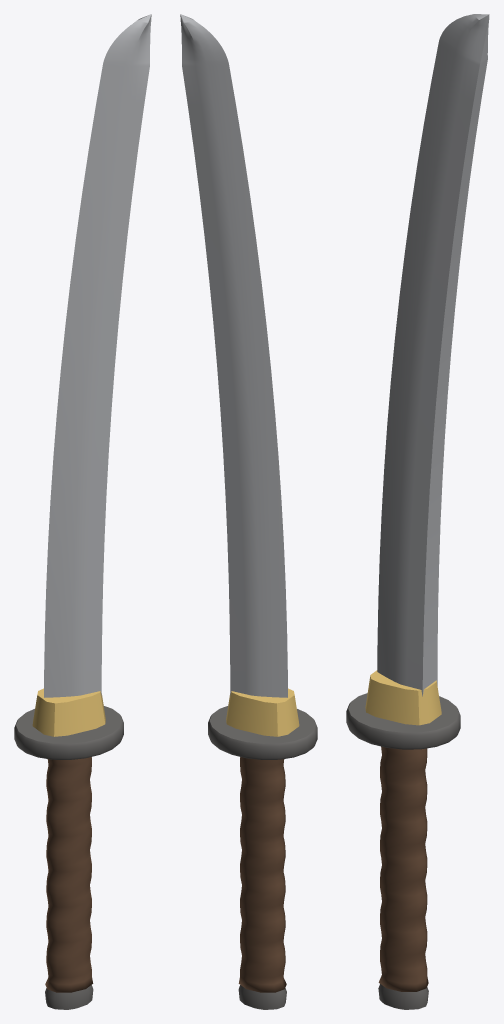
The model's file is wakizashi.glb.
3 renders of one model, left to right at view 1: azimuth 30°, elevation 25°; view 2: azimuth 150°, elevation 25°; view 3: azimuth 330°, elevation 25°, orthographic. The views are drawn at different scales.
Visible parts, largest first — view 1: wakizashi; view 2: wakizashi; view 3: wakizashi.
Boxes of the visible parts, <box> form: wakizashi: <box>14,14,151,1009</box>; wakizashi: <box>180,14,317,1009</box>; wakizashi: <box>346,14,489,1009</box>.
Bounding box in the file's own units: 0.2191 × 1.56 × 0.1422.
